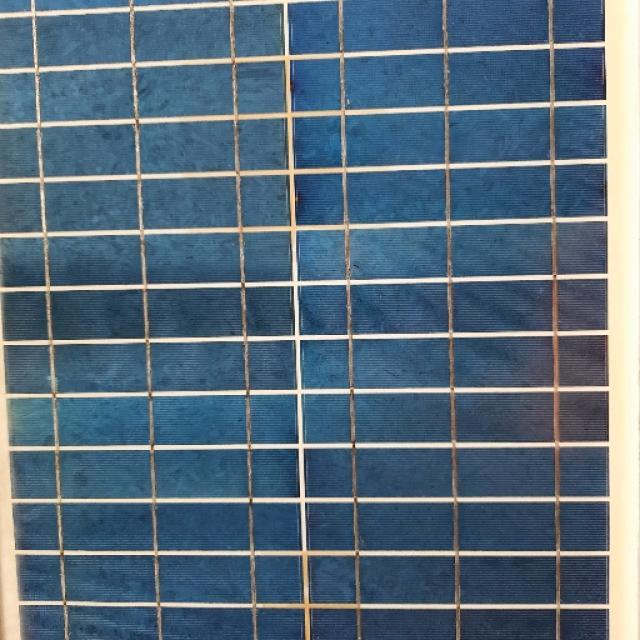Clean: (0, 25, 640, 640)
